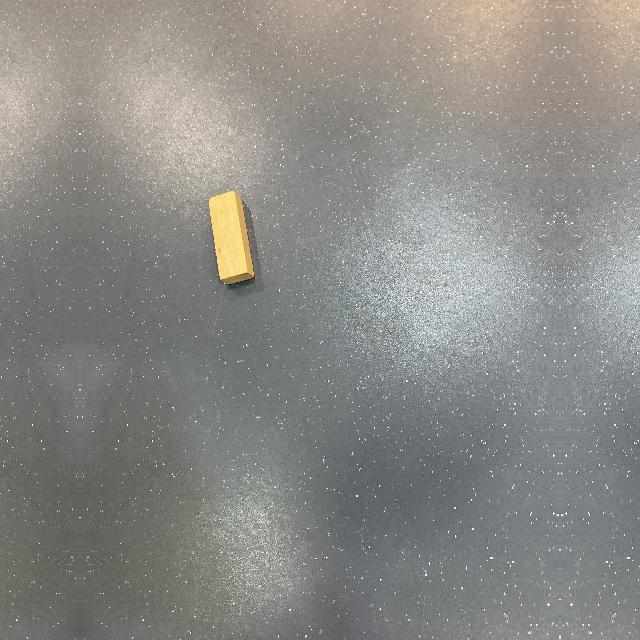jenga: (209, 190, 255, 285)
